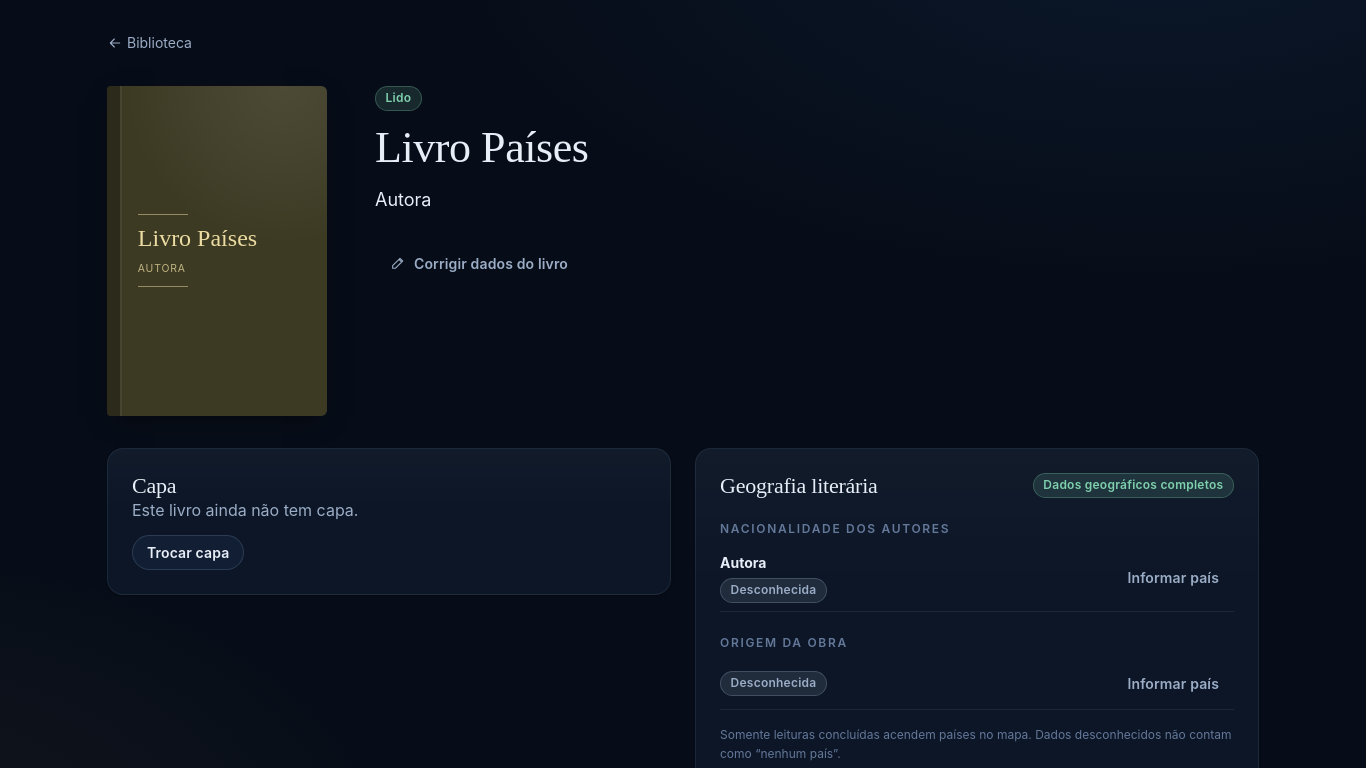
Test: BookDetailsPage: quem pode alterar países › o seletor mantém o aviso de que vale para todos os leitores
Click the button with aria-label "Informar país de origem da obra" at (1173, 684), box [1112,666,1234,701]
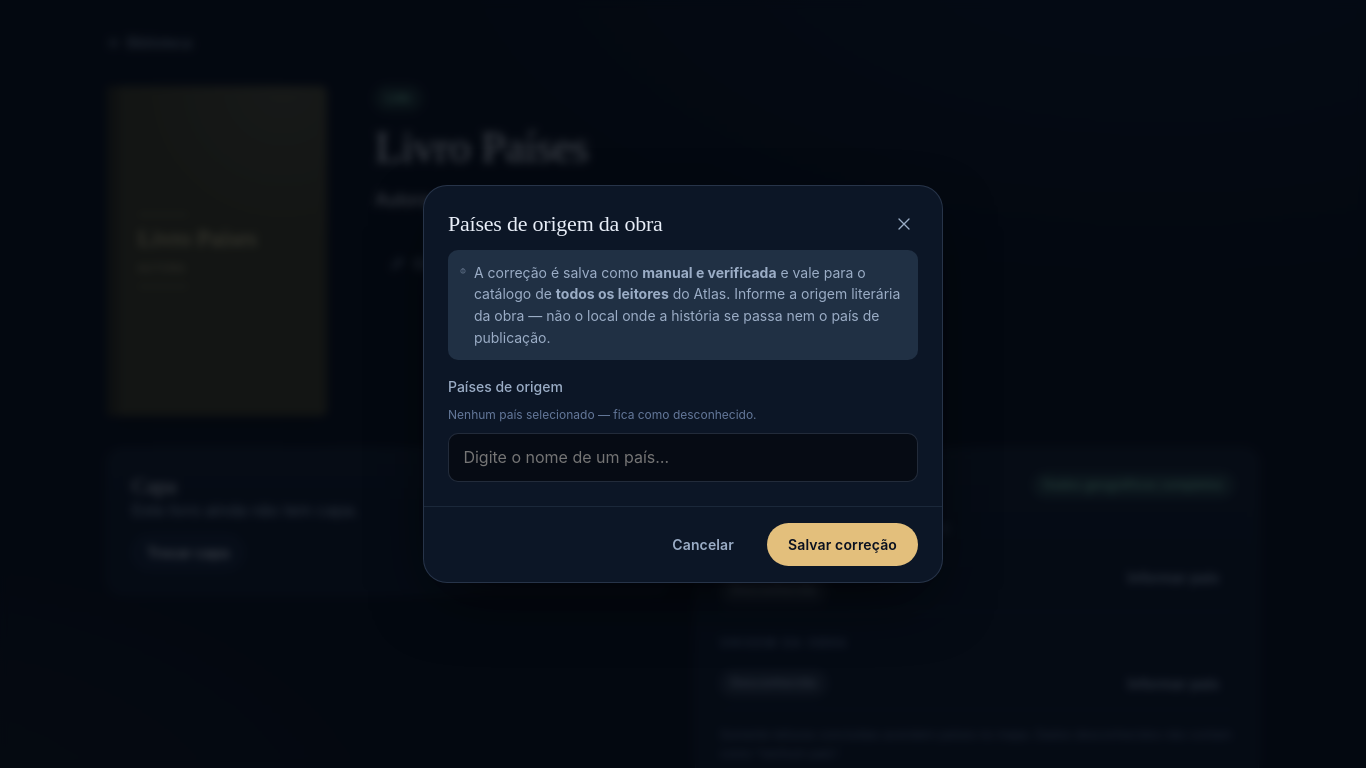
Expected: the element with class "geo-warning" shows "todos os leitores", [556,285,669,302]
